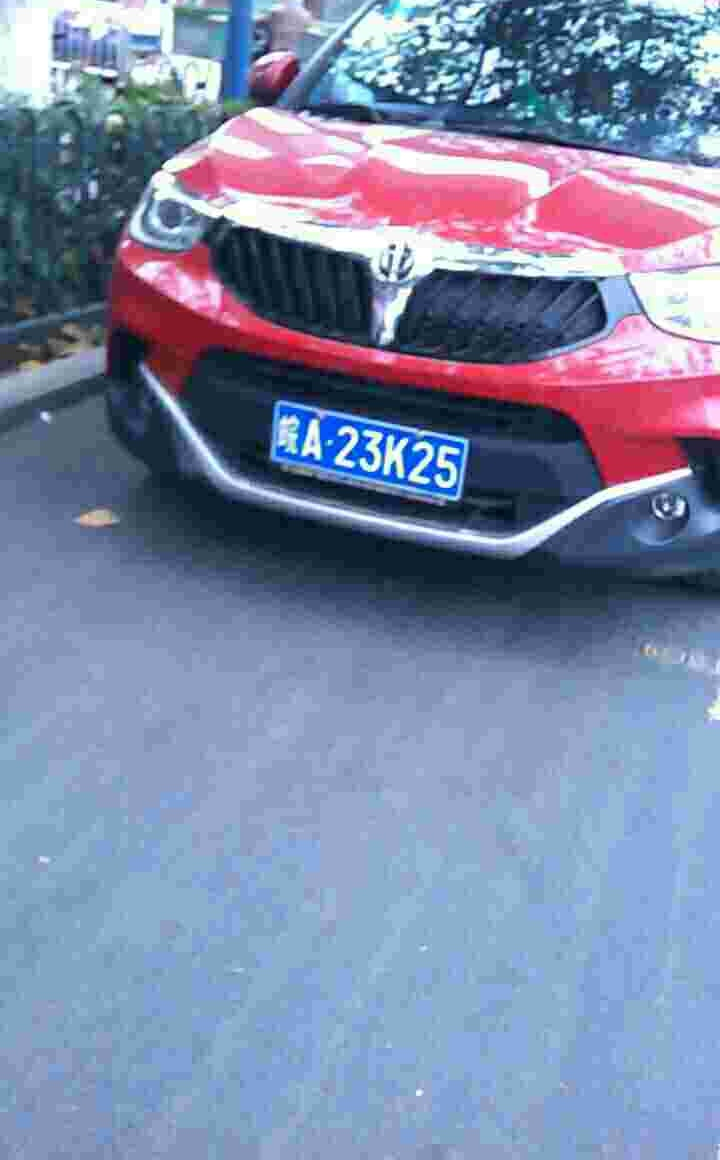plate: (269, 397, 471, 505)
